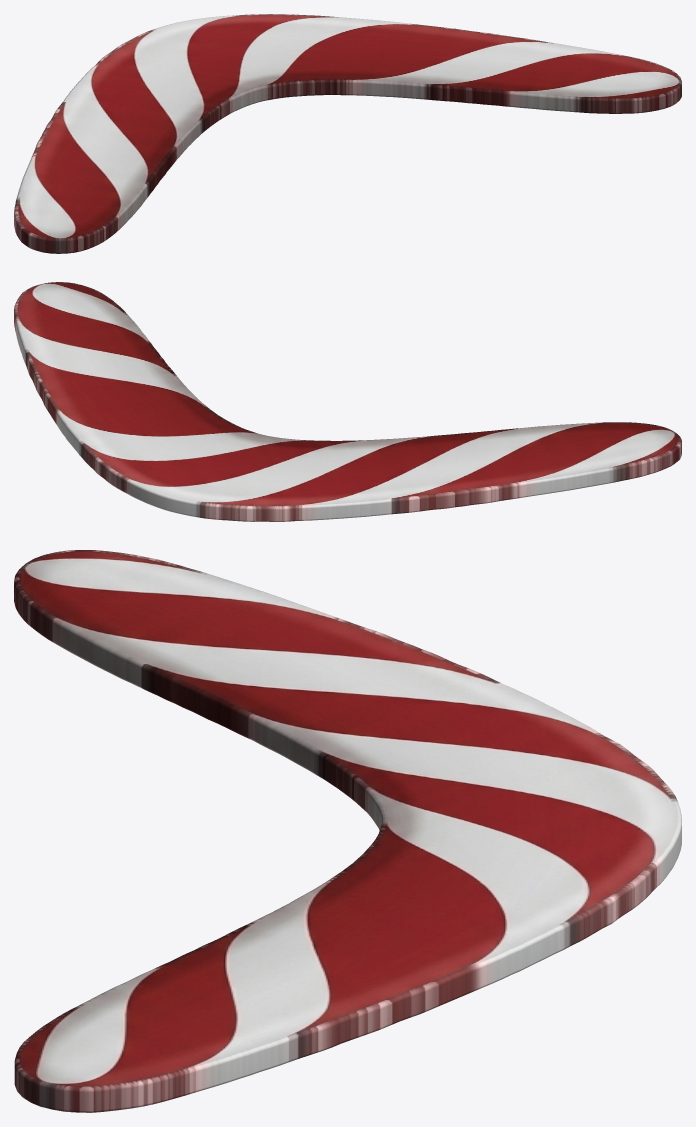
The model's file is Boomerang_27.fbx.
The picture shows the model from 3 angles, top to bottom: view 1: azimuth 30°, elevation 25°; view 2: azimuth 150°, elevation 25°; view 3: azimuth 270°, elevation 25°; orthographic projection. The views are drawn at different scales.
Parts seen in each view (by area): view 1: Boomerang_27; view 2: Boomerang_27; view 3: Boomerang_27.
Boxes of the visible parts, <box> form: Boomerang_27: <box>14,14,681,253</box>; Boomerang_27: <box>14,282,681,521</box>; Boomerang_27: <box>14,550,681,1112</box>.
Size of the model in its own units: 201 by 4.4 by 105.
Materials: 1 (1 with a texture image).
